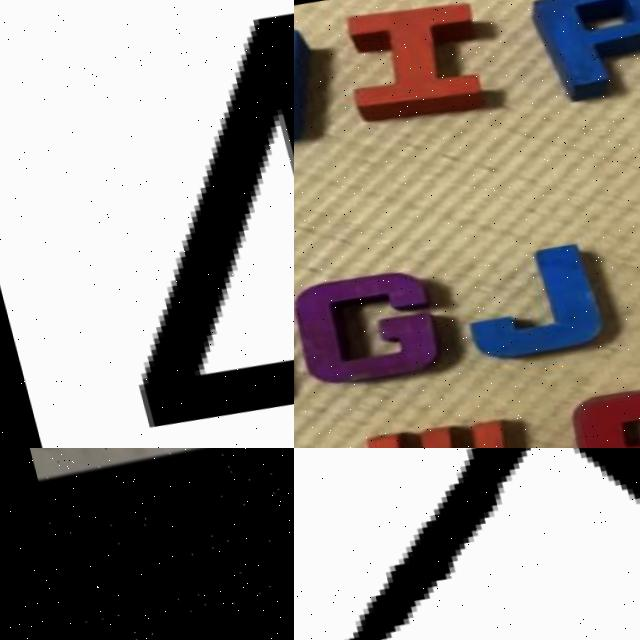A: (553, 365, 640, 448)
G: (294, 257, 445, 393)
I: (324, 0, 497, 129)
J: (449, 232, 613, 370)
P: (530, 0, 640, 99)
V: (294, 21, 337, 159)
W: (340, 403, 532, 448)
X: (294, 448, 640, 640)
